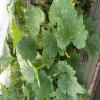Squash Powdery mildew leaf: (55, 2, 87, 50), (55, 60, 85, 96), (23, 8, 45, 34)
